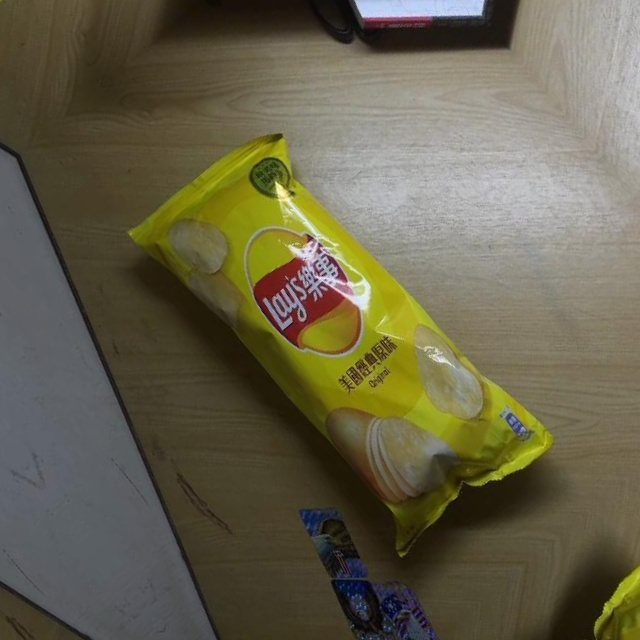Lay-s-original: (118, 102, 556, 570)
